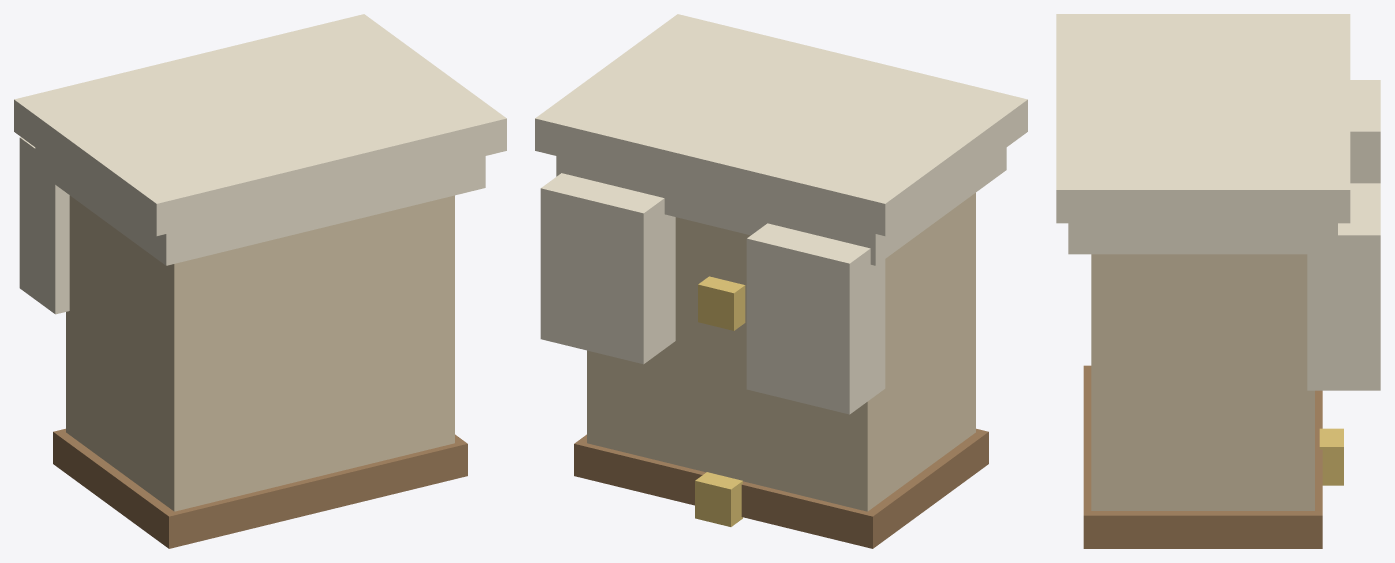
File: viking_peles_tronco.glb
3 renders of one model, left to right at view 1: azimuth 30°, elevation 25°; view 2: azimuth 150°, elevation 25°; view 3: azimuth 270°, elevation 25°, orthographic. The views are drawn at different scales.
Visible parts, largest first — view 1: viking_peles_tronco; view 2: viking_peles_tronco; view 3: viking_peles_tronco.
Part boxes in pixels (box(x1,y1,x2,y2)): viking_peles_tronco: box(14, 14, 506, 548); viking_peles_tronco: box(535, 14, 1027, 548); viking_peles_tronco: box(1056, 14, 1380, 548).
Bounding box in the file's own units: 0.68 × 0.675 × 0.53.
